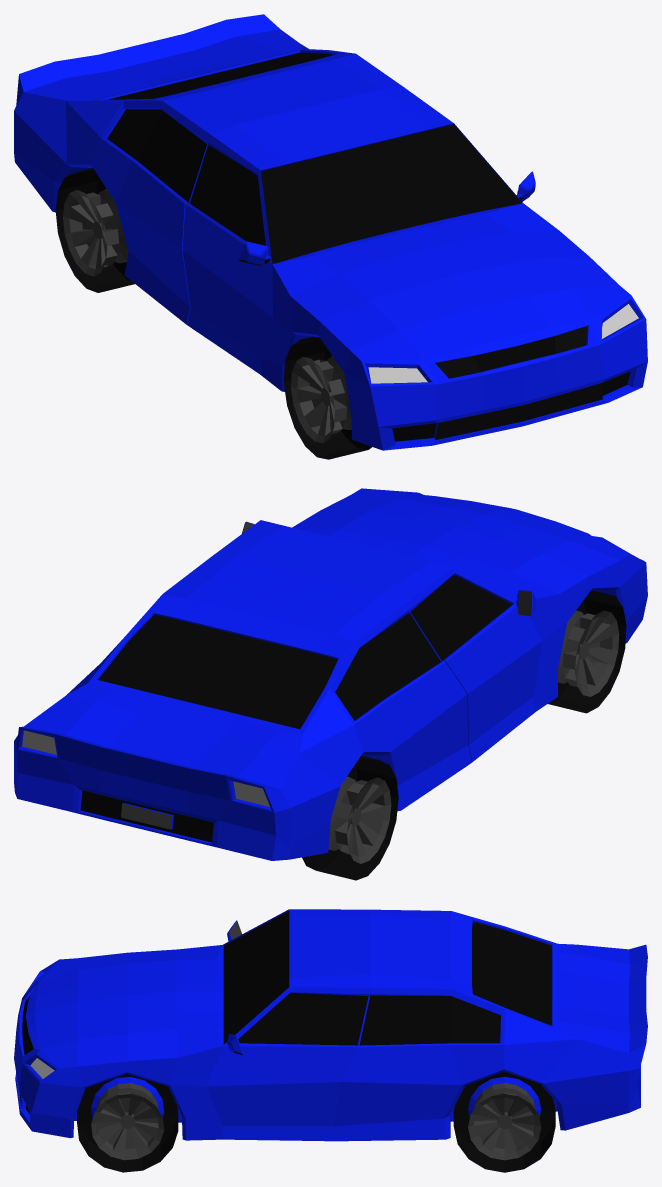
File: car_1_blue.obj
3 renders of one model, top to bottom at view 1: azimuth 30°, elevation 25°; view 2: azimuth 150°, elevation 25°; view 3: azimuth 270°, elevation 25°, orthographic. The views are drawn at different scales.
Parts seen in each view (by area): view 1: Cube; view 2: Cube; view 3: Cube.
Boxes of the visible parts, x1,y1,x2,y2 form: Cube: (14,14,647,459); Cube: (14,488,647,880); Cube: (14,909,647,1172).
Size of the model in its own units: 1.63 by 1.1 by 3.68.
